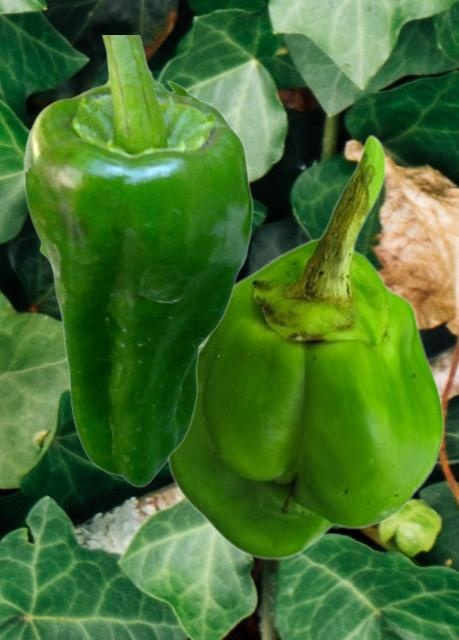bell_pepper: (165, 133, 444, 559), (22, 35, 253, 487)
